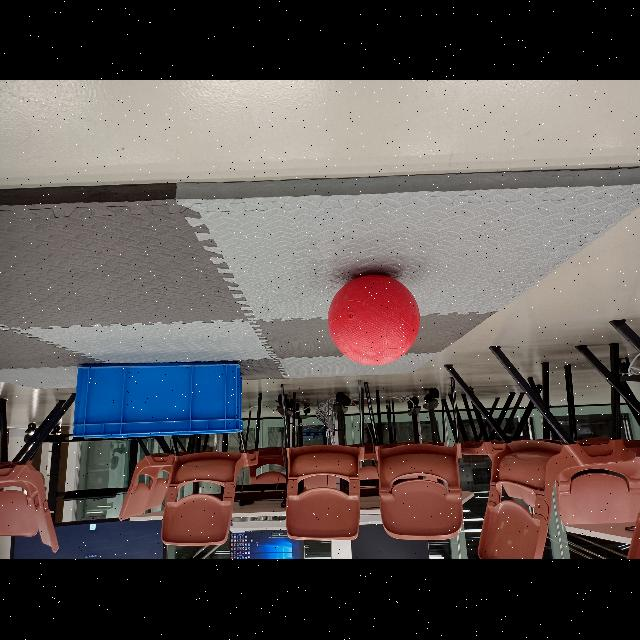R: (330, 273, 422, 367)
